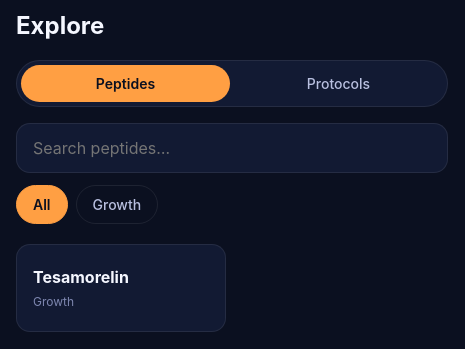
Test case: ExploreView › switches to the Protocols tab via the Segmented control
Click the tab "Protocols" at point(338, 84), box [234,65,443,102]
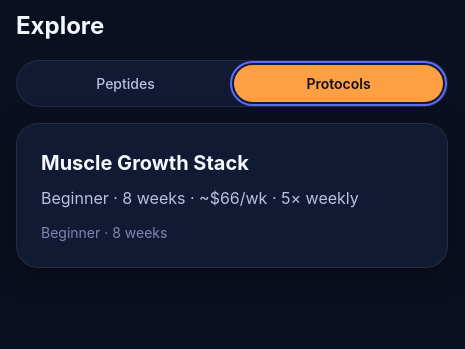
Expected: the heading "Muscle Growth Stack" is shown, [41,151,249,175]
